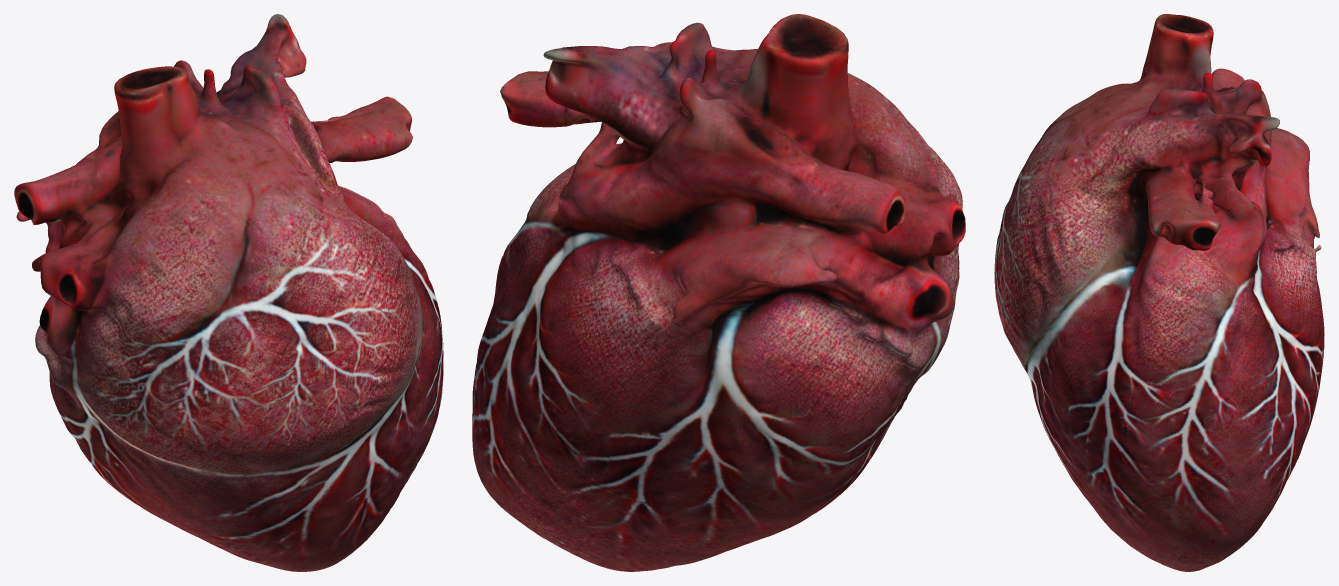
Rendered from human-heart3.glb.
3 views of the same model, side by side, from view 1: azimuth 30°, elevation 25°; view 2: azimuth 150°, elevation 25°; view 3: azimuth 270°, elevation 25° (orthographic). The views are drawn at different scales.
Parts seen in each view (by area): view 1: Heart; view 2: Heart; view 3: Heart.
Boxes of the visible parts, box(x1,y1,x2,y2) form: Heart: box(14, 14, 443, 571); Heart: box(472, 14, 965, 571); Heart: box(994, 14, 1324, 571).
Bounding box in the file's own units: 0.4169 × 0.5383 × 0.3385.
1 material, 1 textured.
